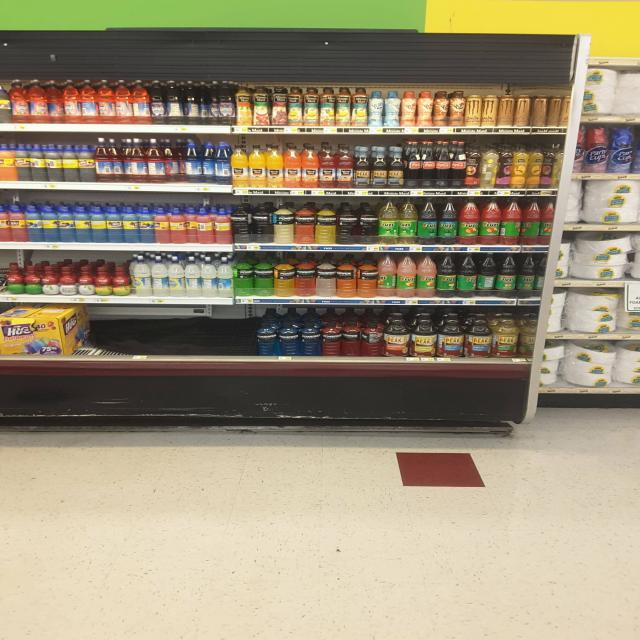void: (128, 304, 158, 368), (222, 307, 255, 364), (94, 306, 124, 366), (190, 306, 220, 365), (159, 307, 187, 368), (68, 309, 93, 365), (166, 137, 181, 194), (200, 76, 213, 136)
